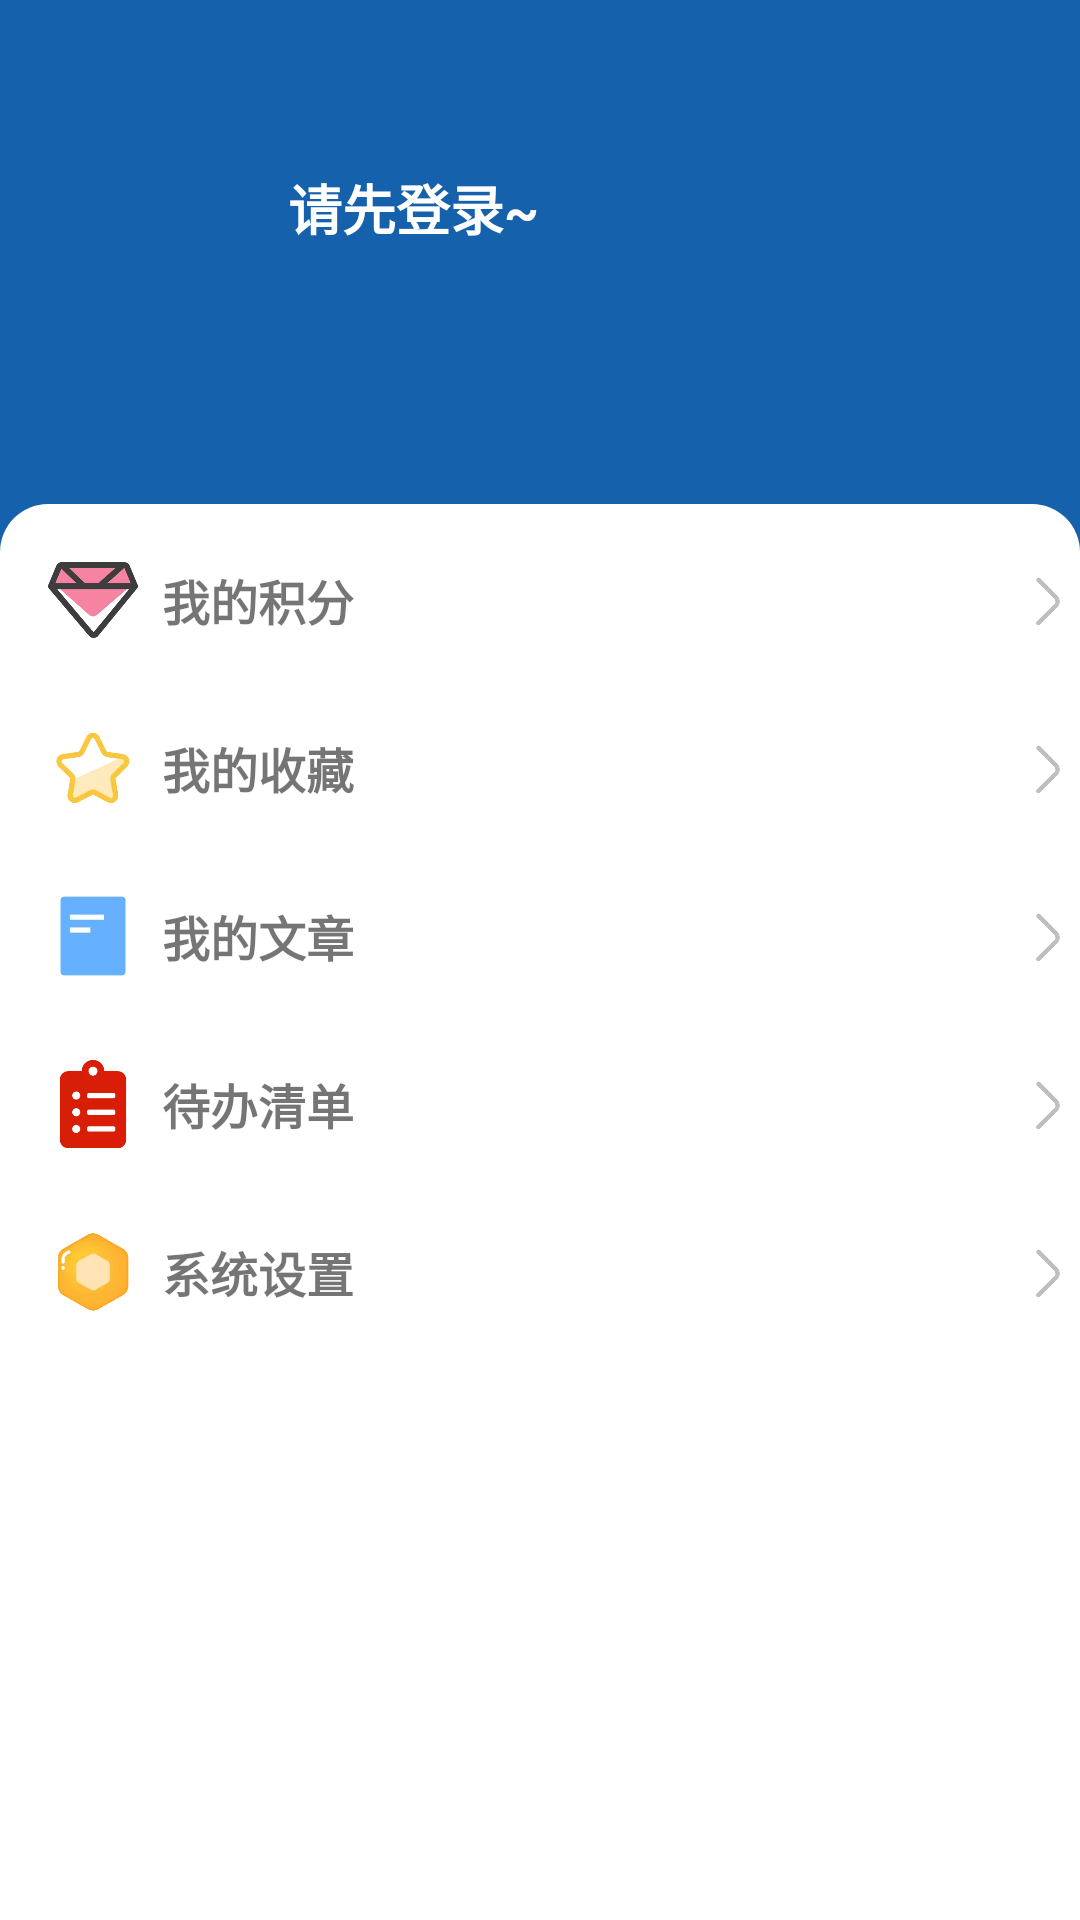

Screen size 1080px×1920px. Icon name, then its box in pixels as box(x1, y1, x2, y2):
article: box(60, 896, 126, 976)
collect: box(56, 733, 130, 803)
list: box(60, 1060, 126, 1148)
right: box(1036, 578, 1060, 625), box(1036, 746, 1060, 793), box(1036, 914, 1060, 961), box(1036, 1082, 1060, 1129), box(1036, 1250, 1060, 1297)
score: box(48, 562, 138, 638)
